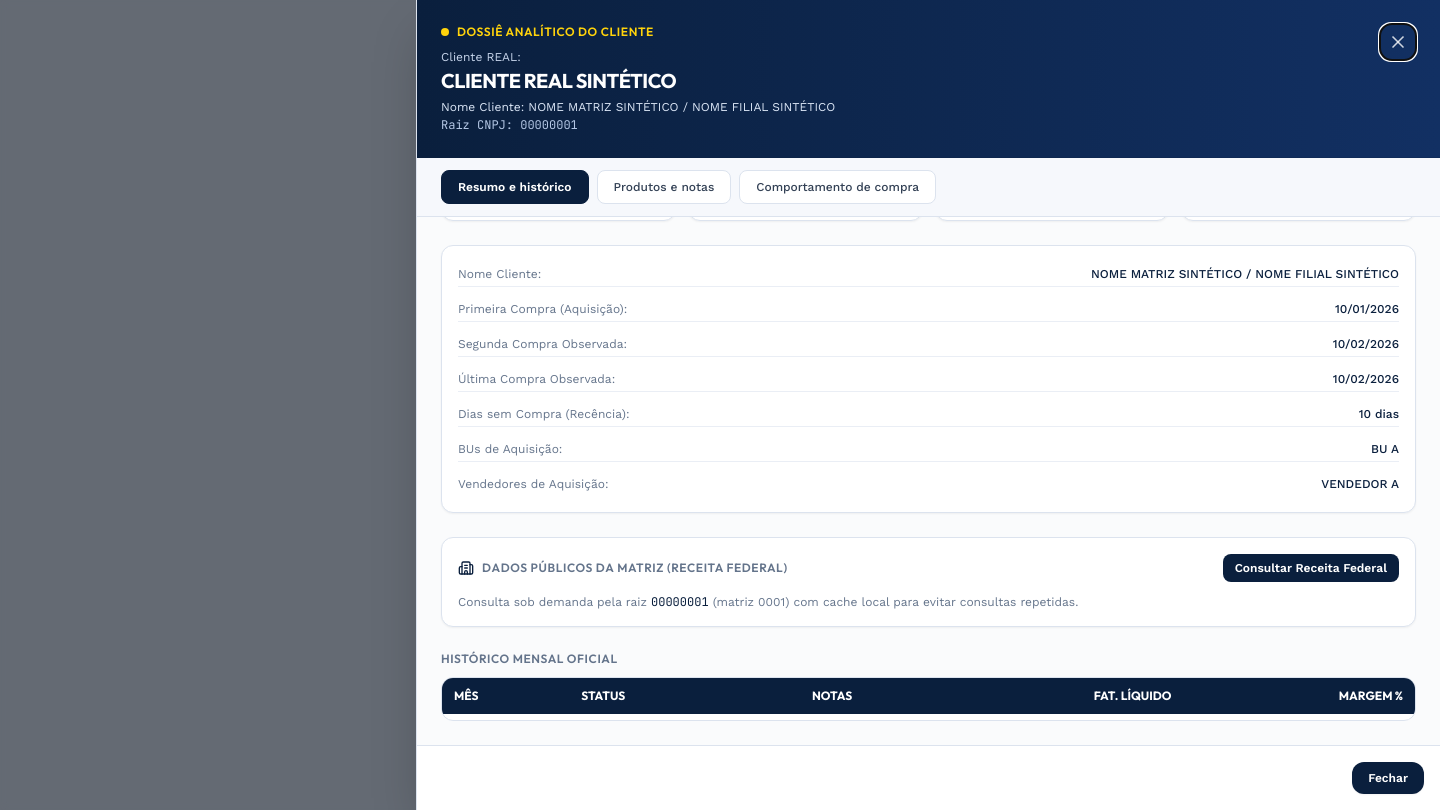
Test: Exploração do cliente › consulta dados públicos do CNPJ na Receita Federal sob demanda no dossiê
(page scrolled)
What coordinates should you click on to do the following:
click the button "Consultar Receita Federal"
I would click on:
 (1311, 568)
Its box is [1223,554,1399,582].
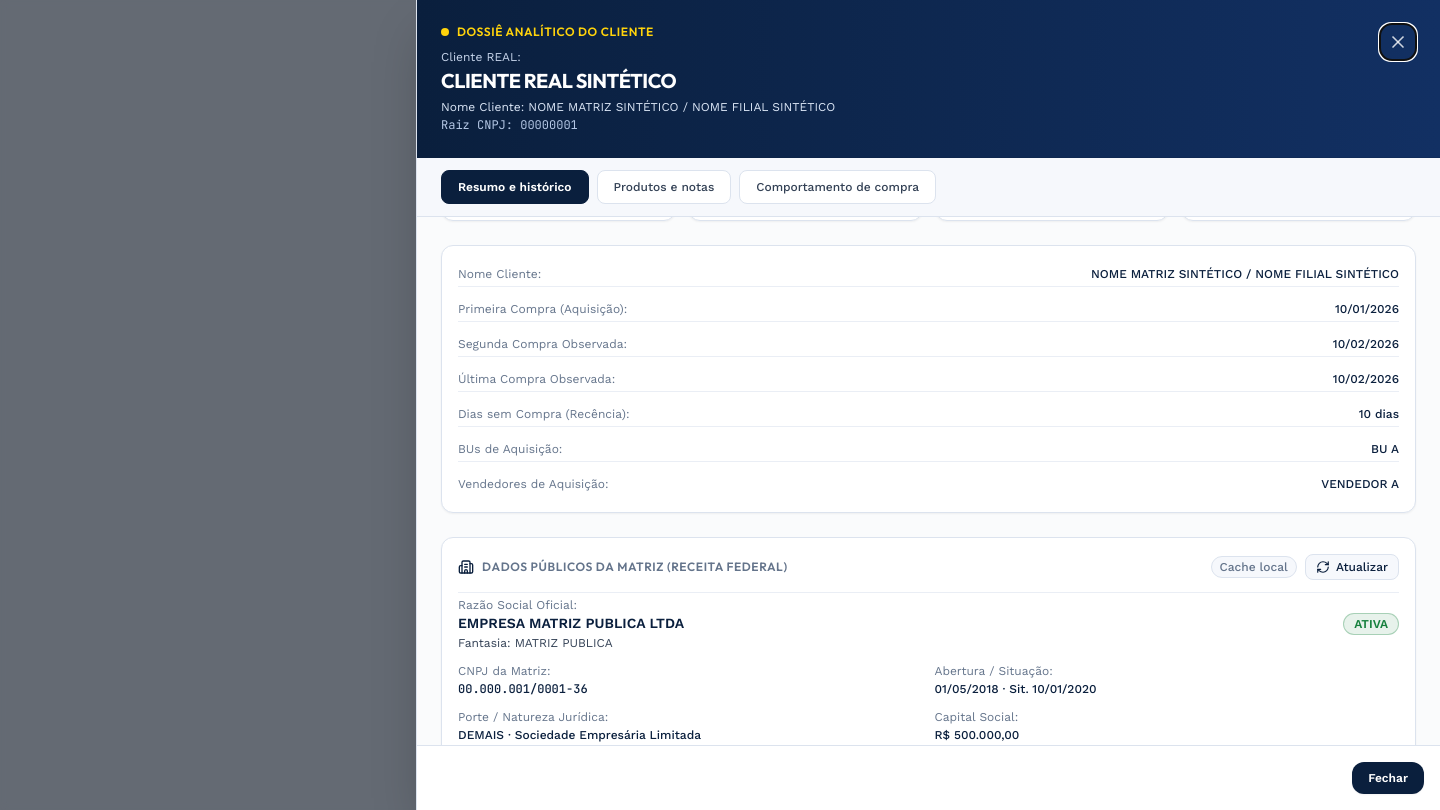
Now the text "EMPRESA MATRIZ PUBLICA LTDA" is shown, box [458,615,684,631]
Now the text "ATIVA" is shown, box [1343,613,1399,635]
Now the text "DEMAIS · Sociedade Empresária Limitada" is shown, box [458,728,701,742]
